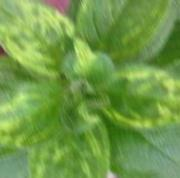Tomato leaf mosaic virus: (32, 95, 115, 178), (74, 0, 175, 60), (0, 76, 77, 149), (100, 66, 180, 131)
